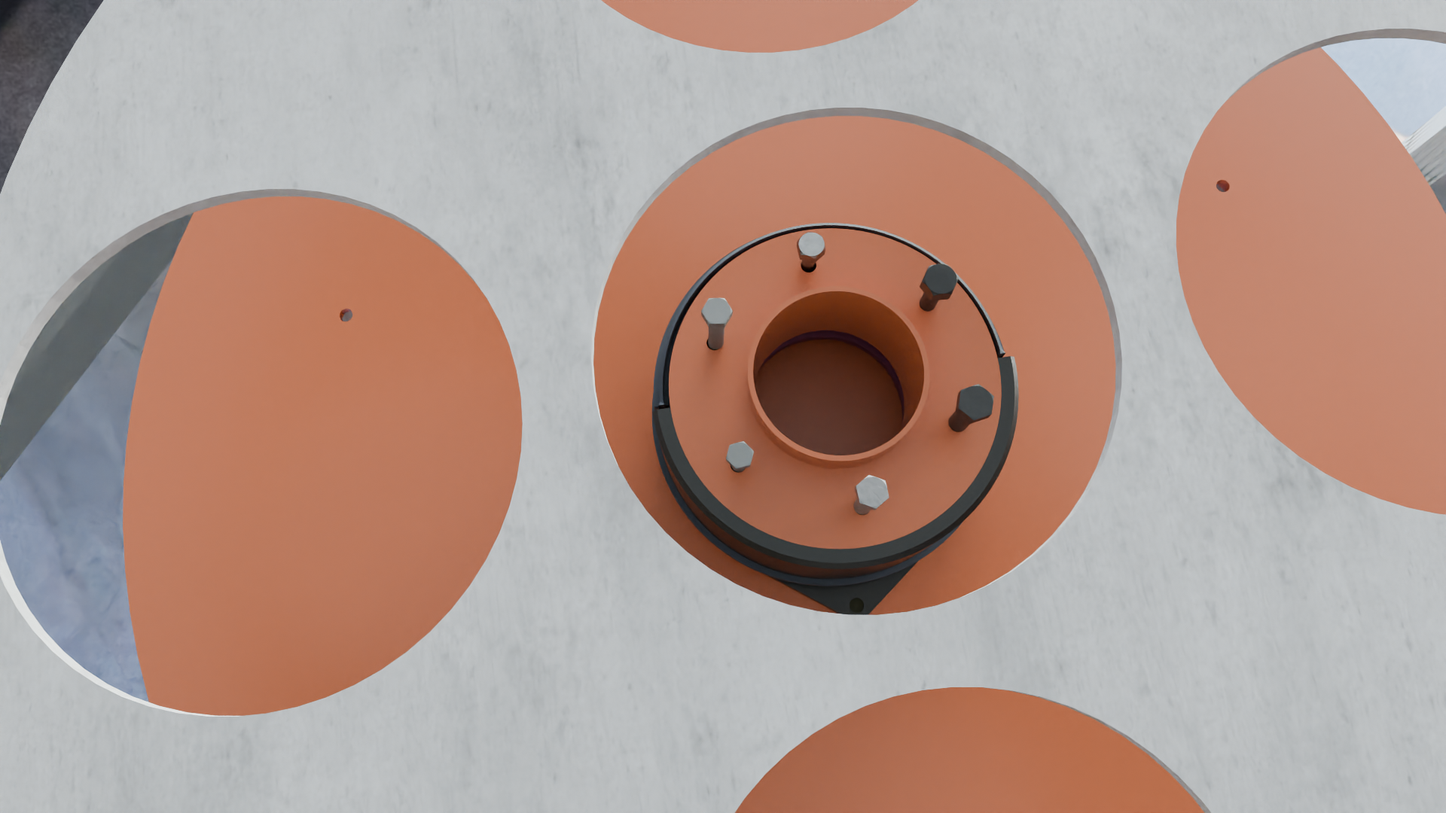bolt: (958, 384, 994, 420), (922, 263, 958, 296), (856, 475, 889, 509), (701, 298, 733, 324), (726, 441, 754, 469), (797, 232, 825, 259)
